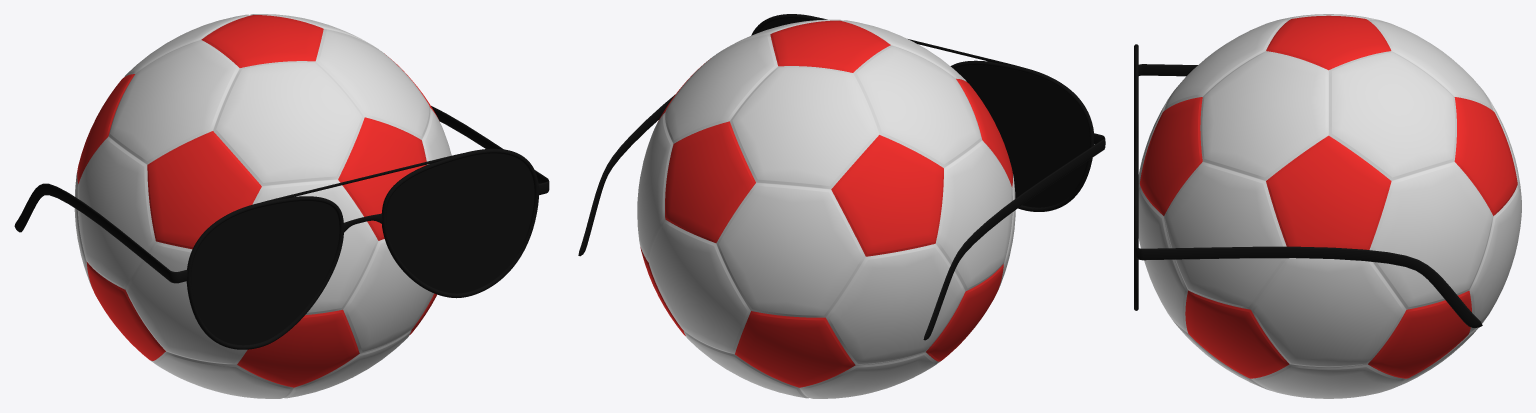
The model's file is Baloncnda.glb.
The picture shows the model from 3 angles, left to right: view 1: azimuth 30°, elevation 25°; view 2: azimuth 150°, elevation 25°; view 3: azimuth 270°, elevation 25°; orthographic projection.
Visible parts, largest first — view 1: Esfera geodésica, Círculo Bezier, Círculo Bezier.001, Cubo.002, Cubo.003, Cubo.001; view 2: Esfera geodésica, Círculo Bezier, Cubo.002, Cubo.003, Círculo Bezier.001; view 3: Esfera geodésica, Cubo.003, Círculo Bezier.001, Cubo.002, Círculo Bezier.
Boxes of the visible parts, bbox=[...] form: Esfera geodésica: bbox=[74, 14, 451, 398]; Círculo Bezier: bbox=[186, 196, 343, 349]; Círculo Bezier.001: bbox=[381, 148, 538, 298]; Cubo.002: bbox=[14, 183, 187, 283]; Cubo.003: bbox=[431, 106, 549, 195]; Cubo.001: bbox=[252, 151, 473, 205]; Esfera geodésica: bbox=[637, 19, 1015, 398]; Círculo Bezier: bbox=[950, 60, 1094, 211]; Cubo.002: bbox=[923, 133, 1105, 340]; Cubo.003: bbox=[578, 95, 674, 256]; Círculo Bezier.001: bbox=[751, 14, 823, 35]; Esfera geodésica: bbox=[1138, 14, 1521, 398]; Cubo.003: bbox=[1135, 243, 1482, 327]; Círculo Bezier.001: bbox=[1134, 137, 1138, 310]; Cubo.002: bbox=[1138, 64, 1197, 76]; Círculo Bezier: bbox=[1134, 44, 1138, 138].
Size of the model in its own units: 2 by 1.75 by 1.76.
